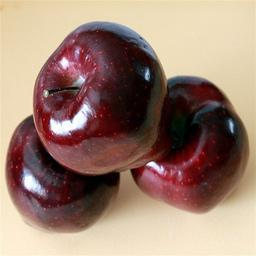apple: (34, 19, 167, 171), (130, 74, 250, 216), (4, 111, 120, 231)
